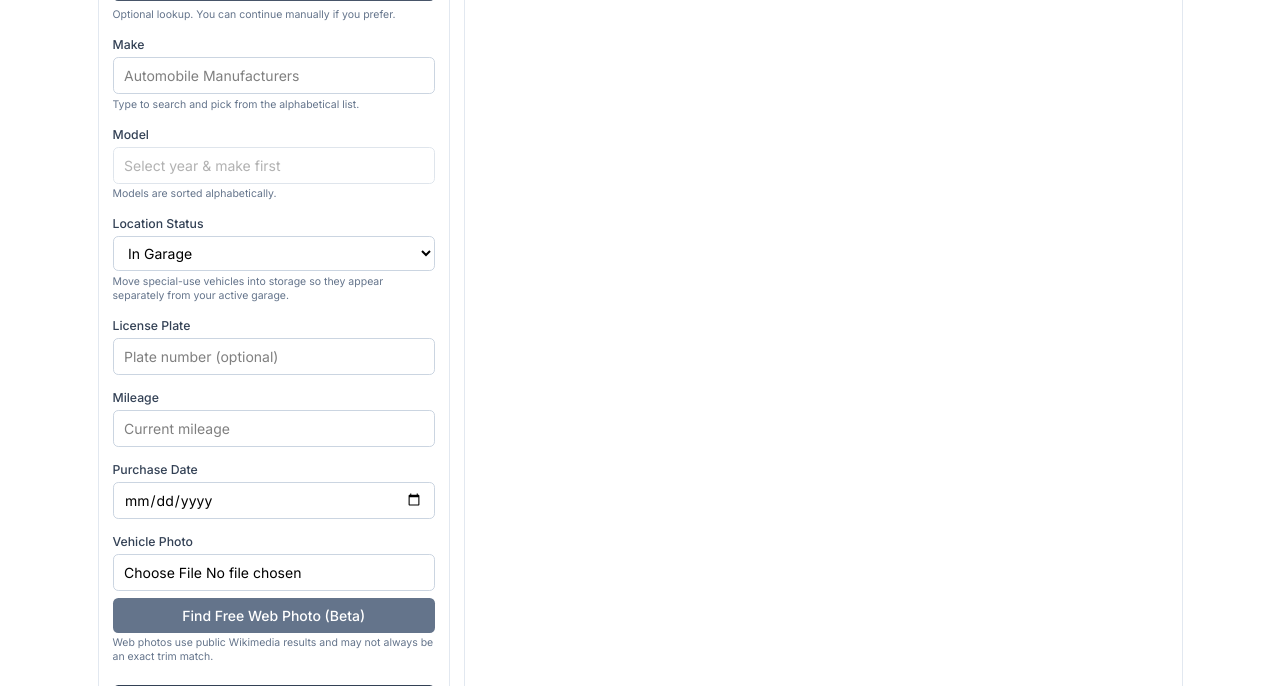
Test: AddVehicle page › normalizes license plate input and shows validation error when invalid
The image size is (1280, 686).
(page scrolled)
Type "abc!" into the field labelled "License Plate".
click(274, 356); type("abc!")  # box left=112, top=338, right=435, bottom=374
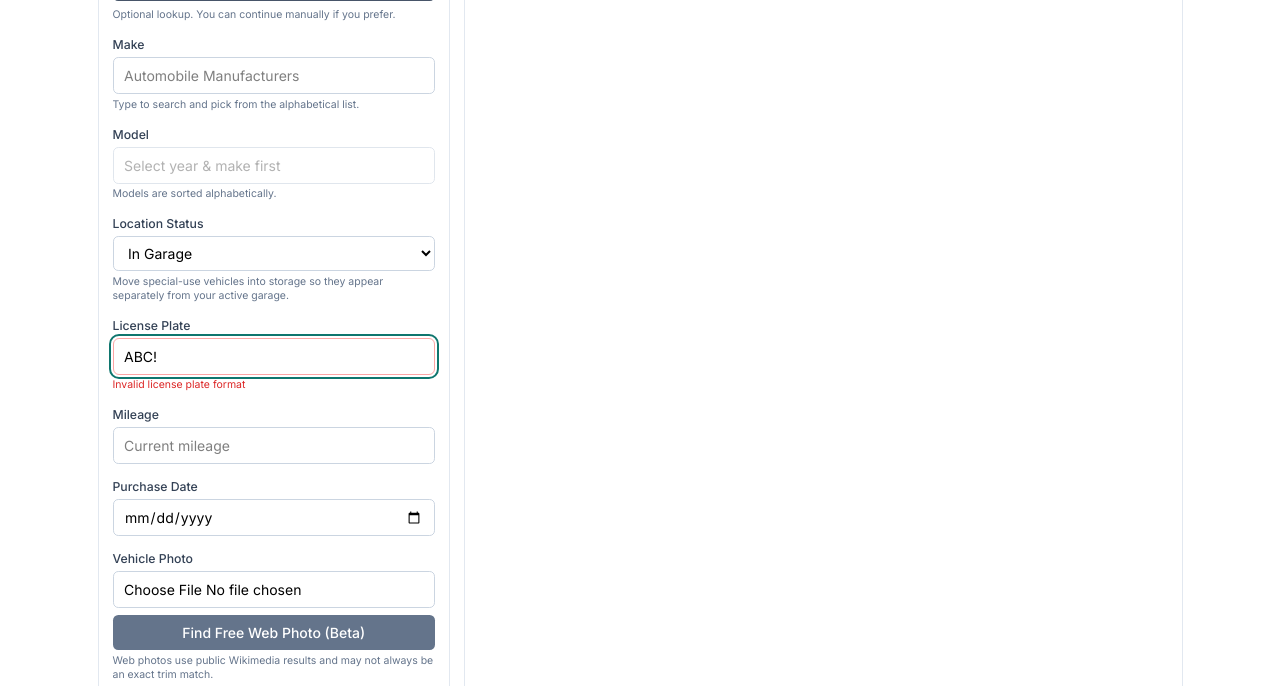
Expected: the text "Invalid license plate format" is shown, left=112, top=378, right=245, bottom=391
